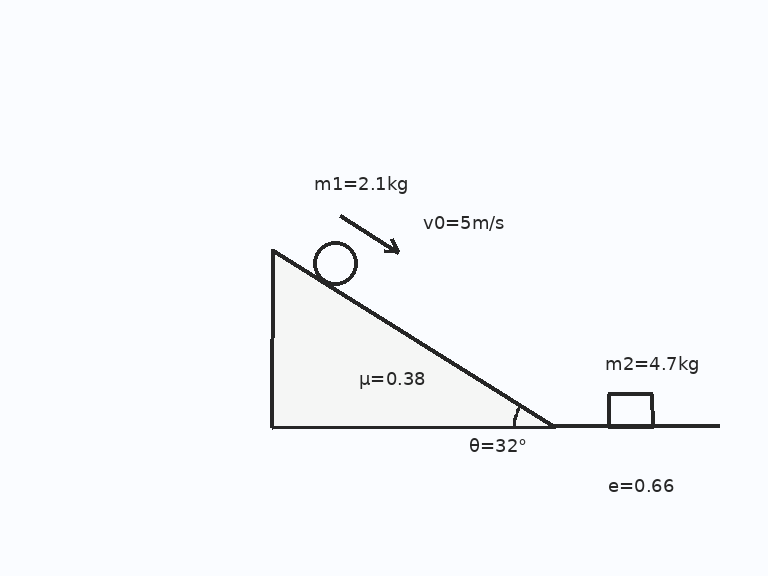ball: (311, 239, 359, 287)
block: (606, 392, 654, 428)
ramp: (270, 248, 556, 428)
